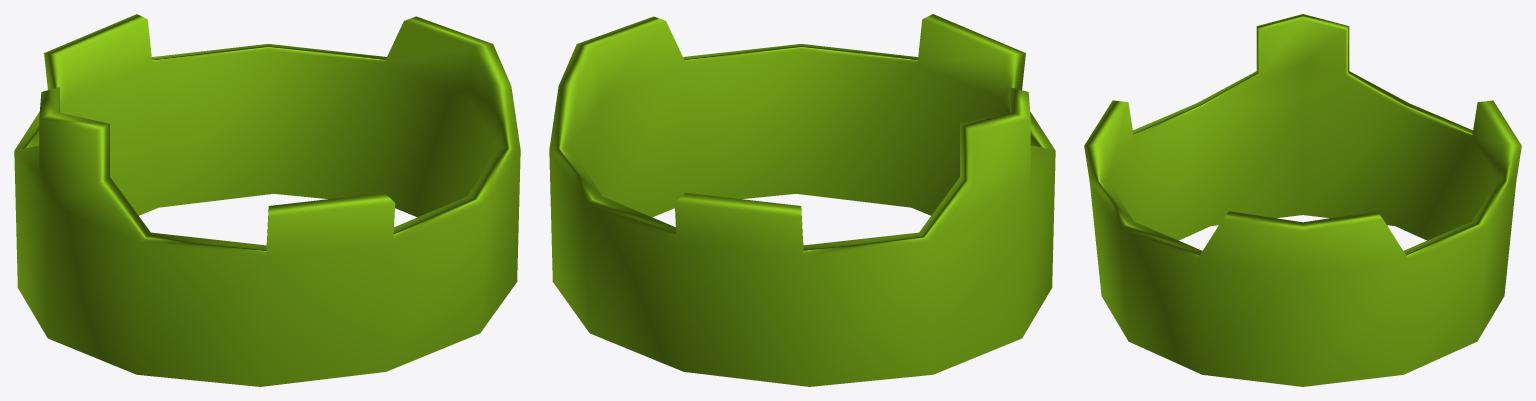
File: Statue_03B_Lod0.fbx
The picture shows the model from 3 angles, left to right: view 1: azimuth 30°, elevation 25°; view 2: azimuth 150°, elevation 25°; view 3: azimuth 270°, elevation 25°; orthographic projection. The views are drawn at different scales.
Visible parts, largest first — view 1: Statue_03B_Lod0; view 2: Statue_03B_Lod0; view 3: Statue_03B_Lod0.
Boxes of the visible parts, box(x1,y1,x2,y2) form: Statue_03B_Lod0: box(14, 14, 520, 386); Statue_03B_Lod0: box(549, 14, 1055, 386); Statue_03B_Lod0: box(1084, 14, 1521, 386).
Bounding box in the file's own units: 30.81 × 14.67 × 30.35.
